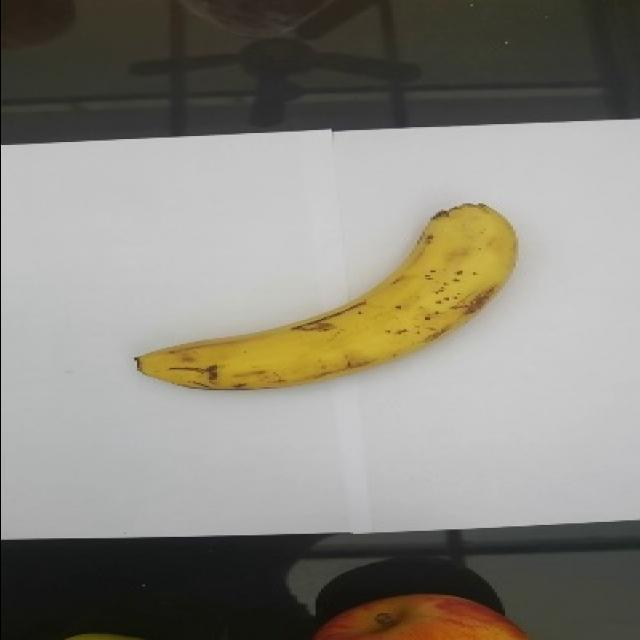Apple: (312, 592, 528, 639)
Banana: (133, 201, 518, 391)
